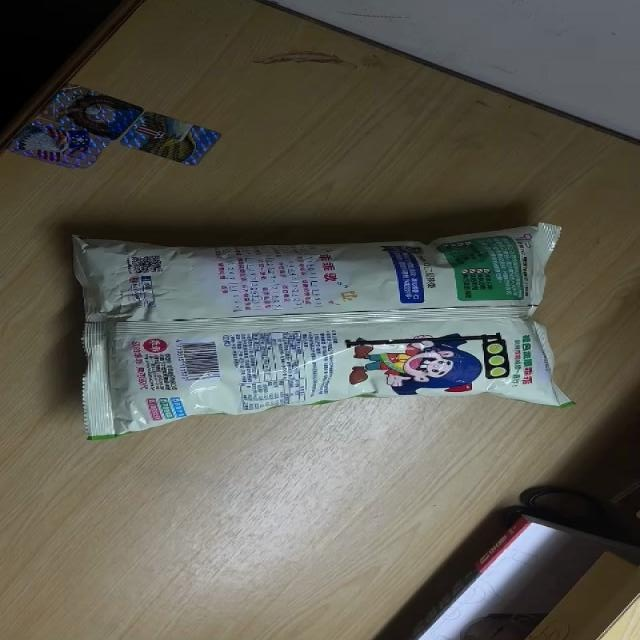Good-Luck: (76, 223, 572, 441)
